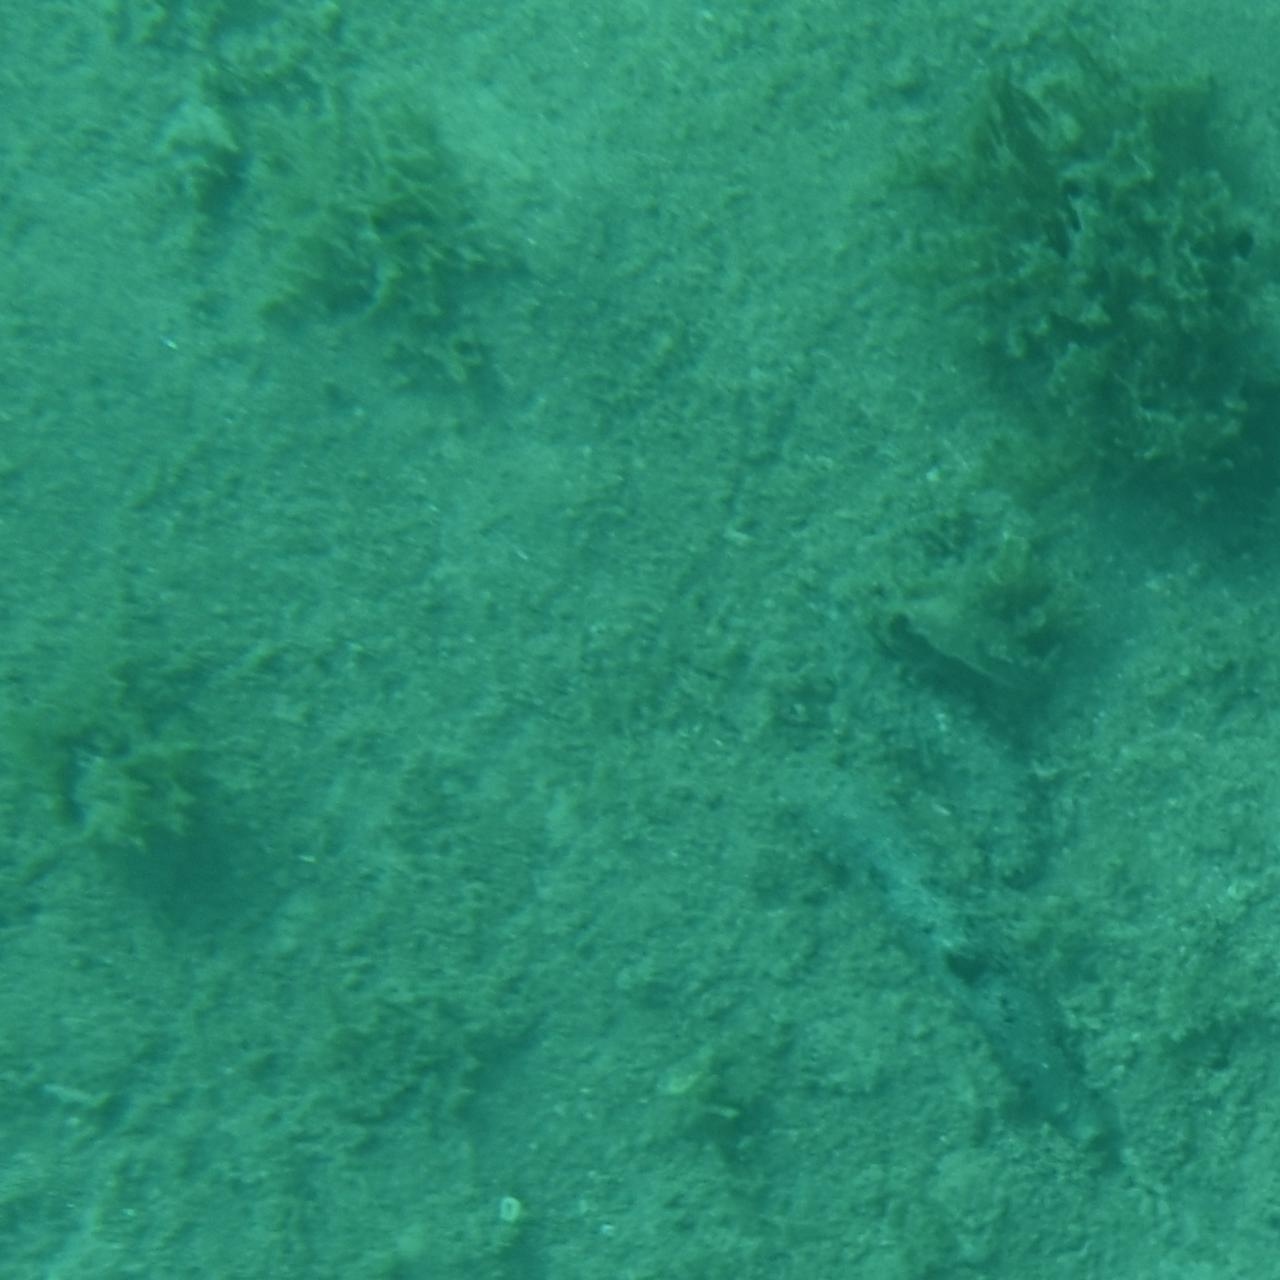Holothuria tubulosa: (831, 797, 1138, 1186), (754, 583, 1046, 918)
Phaeophyceae -cfr Cystoseira-: (942, 27, 1280, 549), (21, 648, 257, 884)
